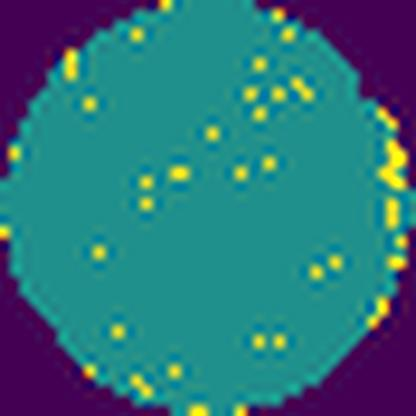Edge-Loc: (376, 101, 416, 238)
